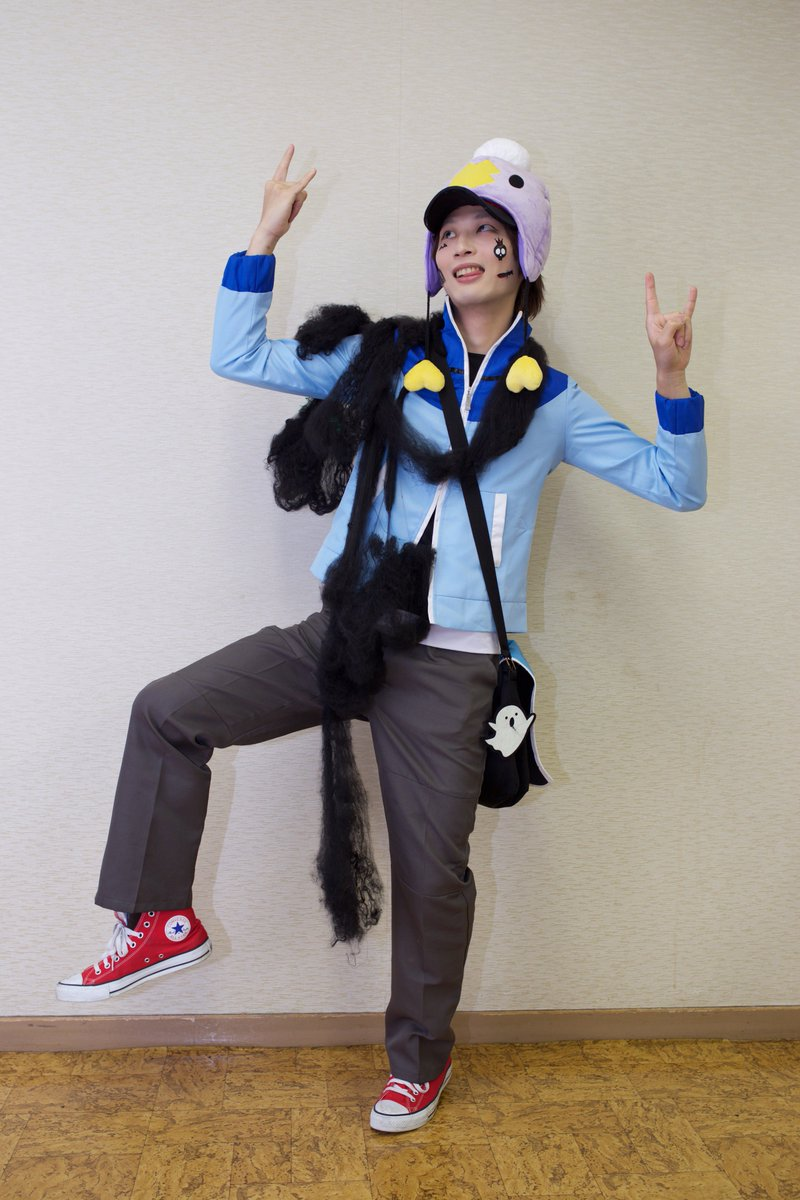face: (434, 205, 522, 304)
hand: (256, 139, 320, 246), (640, 268, 702, 372)
